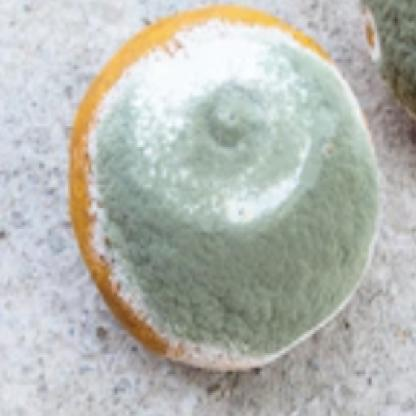rotten: (71, 6, 384, 376)
